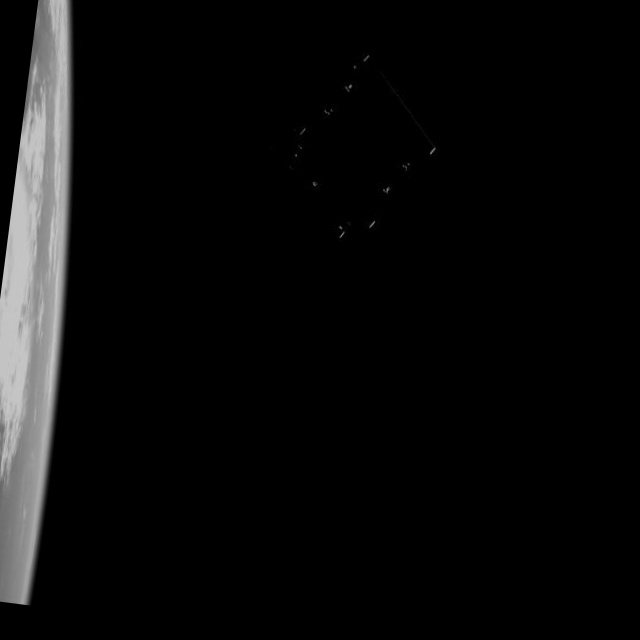medium_debris: (262, 46, 448, 252)
